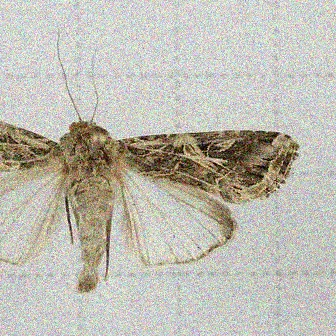Spodoptera litura: (0, 22, 301, 295)
